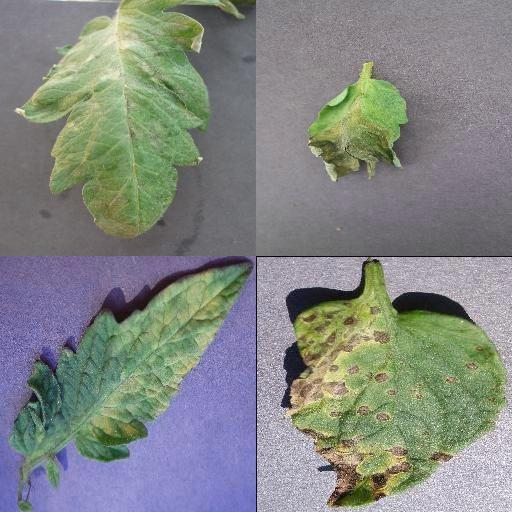Late Blight: (12, 0, 245, 241), (309, 77, 409, 183)
Leaf Mold: (12, 260, 254, 464)
Septoria: (289, 297, 505, 507)
